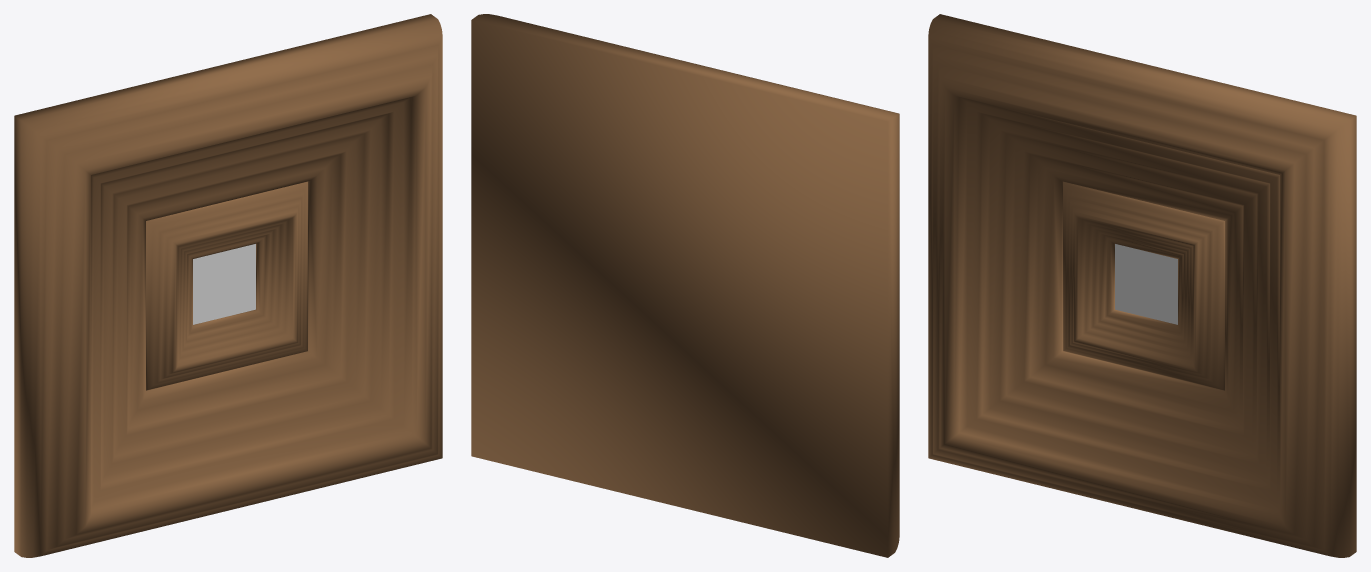
The picture shows the model from 3 angles, left to right: view 1: azimuth 30°, elevation 25°; view 2: azimuth 150°, elevation 25°; view 3: azimuth 330°, elevation 25°; orthographic projection.
Visible parts, largest first — view 1: Frame, Painting; view 2: Frame; view 3: Frame, Painting.
Part boxes in pixels (x1,y1,x2,y2): Frame: (14,14,442,557); Painting: (193,244,255,324); Frame: (471,14,899,557); Frame: (928,14,1356,557); Painting: (1115,244,1177,324).
Bounding box in the file's own units: 0.8369 × 0.8369 × 0.1148.
